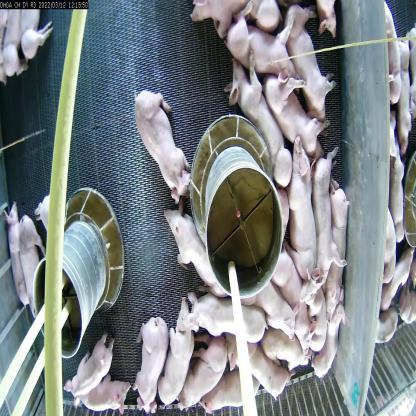Pig: (229, 76, 290, 191), (282, 6, 333, 132), (134, 89, 192, 199), (273, 67, 329, 180), (197, 290, 268, 362), (228, 322, 282, 412), (60, 332, 116, 411), (168, 205, 213, 295), (238, 15, 298, 82), (288, 145, 317, 277), (180, 339, 224, 415), (135, 310, 165, 415), (163, 303, 192, 411), (333, 188, 360, 298), (257, 271, 296, 344), (0, 192, 28, 286), (314, 157, 333, 283), (313, 301, 341, 386), (303, 283, 332, 362), (36, 174, 61, 263), (208, 372, 255, 415), (83, 373, 128, 415), (262, 330, 304, 374), (20, 221, 39, 290), (268, 264, 297, 309)
